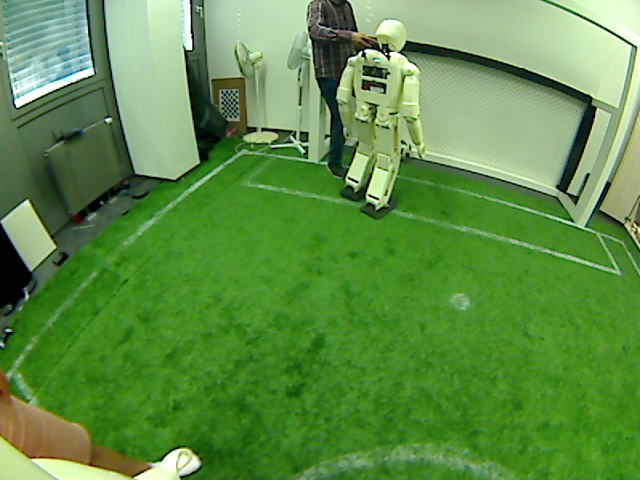ball: (401, 141, 413, 160)
goalpost: (569, 180, 592, 229), (305, 128, 322, 162)
robot: (333, 134, 399, 209)
